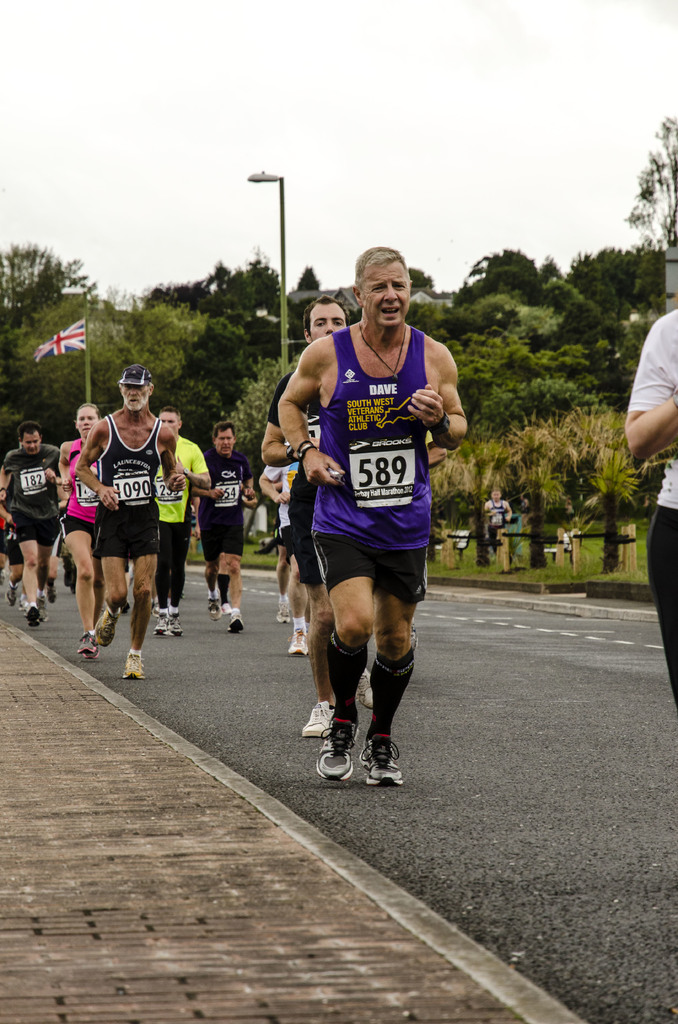Footwear: (312, 704, 362, 783), (366, 720, 408, 792), (295, 691, 329, 737), (277, 613, 305, 666), (119, 650, 144, 682), (92, 605, 109, 646), (76, 638, 102, 664), (165, 598, 184, 631), (271, 599, 295, 625), (207, 586, 224, 622), (32, 586, 47, 619), (6, 579, 18, 612), (230, 606, 245, 632), (154, 615, 170, 634), (28, 603, 42, 624), (224, 594, 236, 617)
